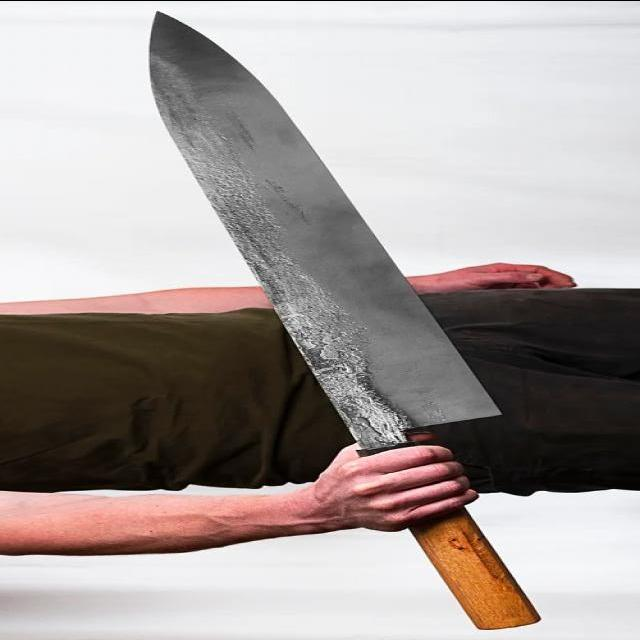knife: (135, 8, 543, 632)
